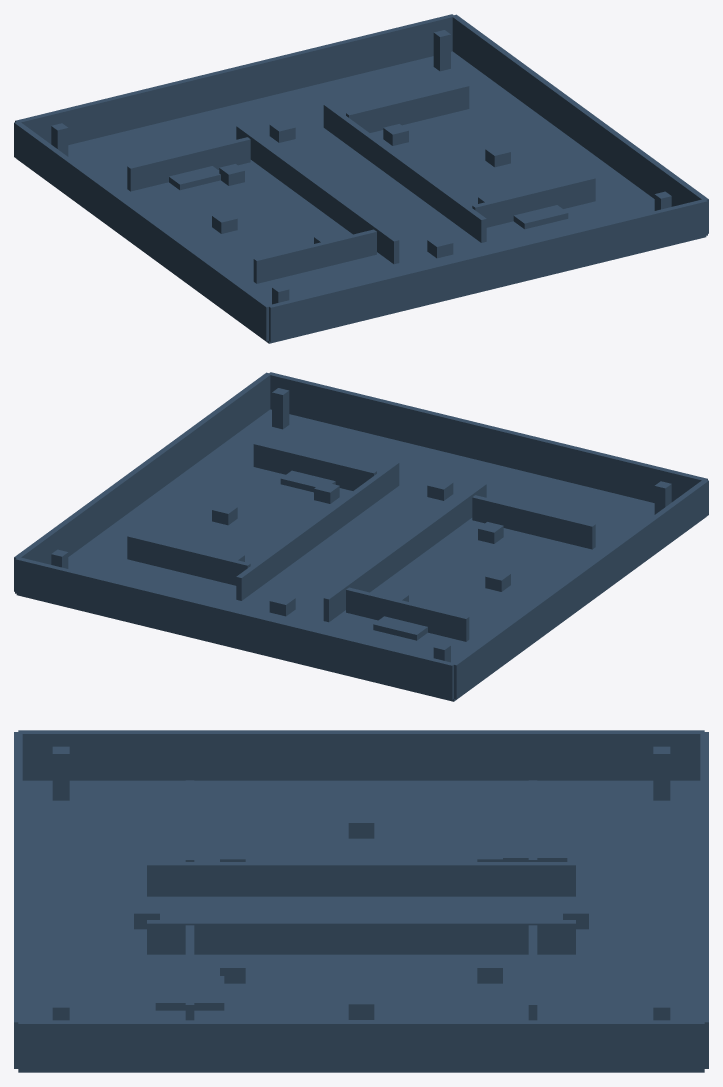
Rendered from arena.glb.
3 views of the same model, one above another, from view 1: azimuth 30°, elevation 25°; view 2: azimuth 150°, elevation 25°; view 3: azimuth 270°, elevation 25° (orthographic). The views are drawn at different scales.
Parts seen in each view (by area): view 1: Floor, WallS, WallN, WallW, WallE, CorridorR, CorridorL, BlockSW, BlockNW, BlockNE, BlockSE, PlatformSE (+2 smaller); view 2: Floor, WallN, WallS, WallW, WallE, CorridorR, CorridorL, BlockSW, BlockNE, BlockNW, BlockSE, PlatformNW (+2 smaller); view 3: Floor, WallE, WallW, CorridorL, CorridorR, WallN, WallS, PlatformSE, PlatformNW, PillarNW, PillarSW, BlockNE (+9 smaller).
Boxes of the visible parts, box(x1,y1,x2,y2) form: Floor: box(17, 51, 706, 343); WallS: box(268, 199, 707, 341); WallN: box(15, 14, 454, 144); WallW: box(14, 121, 270, 341); WallE: box(452, 14, 708, 233); CorridorR: box(323, 103, 486, 242); CorridorL: box(236, 124, 399, 264); BlockSW: box(253, 229, 376, 283); BlockNW: box(127, 137, 250, 191); BlockNE: box(346, 84, 469, 132); BlockSE: box(472, 176, 595, 227); PlatformSE: box(513, 205, 568, 229); Floor: box(16, 409, 705, 701); WallN: box(15, 557, 454, 699); WallS: box(268, 372, 707, 502); WallW: box(452, 480, 708, 699); WallE: box(14, 372, 270, 591); CorridorR: box(236, 461, 399, 600); CorridorL: box(323, 482, 486, 622); BlockSW: box(472, 495, 595, 549); BlockNE: box(127, 534, 250, 585); BlockNW: box(346, 587, 469, 641); BlockSE: box(253, 442, 376, 490); PlatformNW: box(373, 616, 427, 640); Floor: box(18, 780, 704, 1072); WallE: box(18, 1020, 704, 1070); WallW: box(18, 730, 704, 780); CorridorL: box(147, 862, 575, 896); CorridorR: box(147, 920, 575, 954); WallN: box(700, 732, 708, 1068); WallS: box(14, 732, 22, 1068); PlatformSE: box(155, 974, 224, 1010); PlatformNW: box(498, 829, 567, 861); PillarNW: box(653, 746, 670, 800); PillarSW: box(52, 746, 69, 800); BlockNE: box(528, 925, 537, 1020).
Bounding box in the file's own units: 81 × 6.5 × 81.
